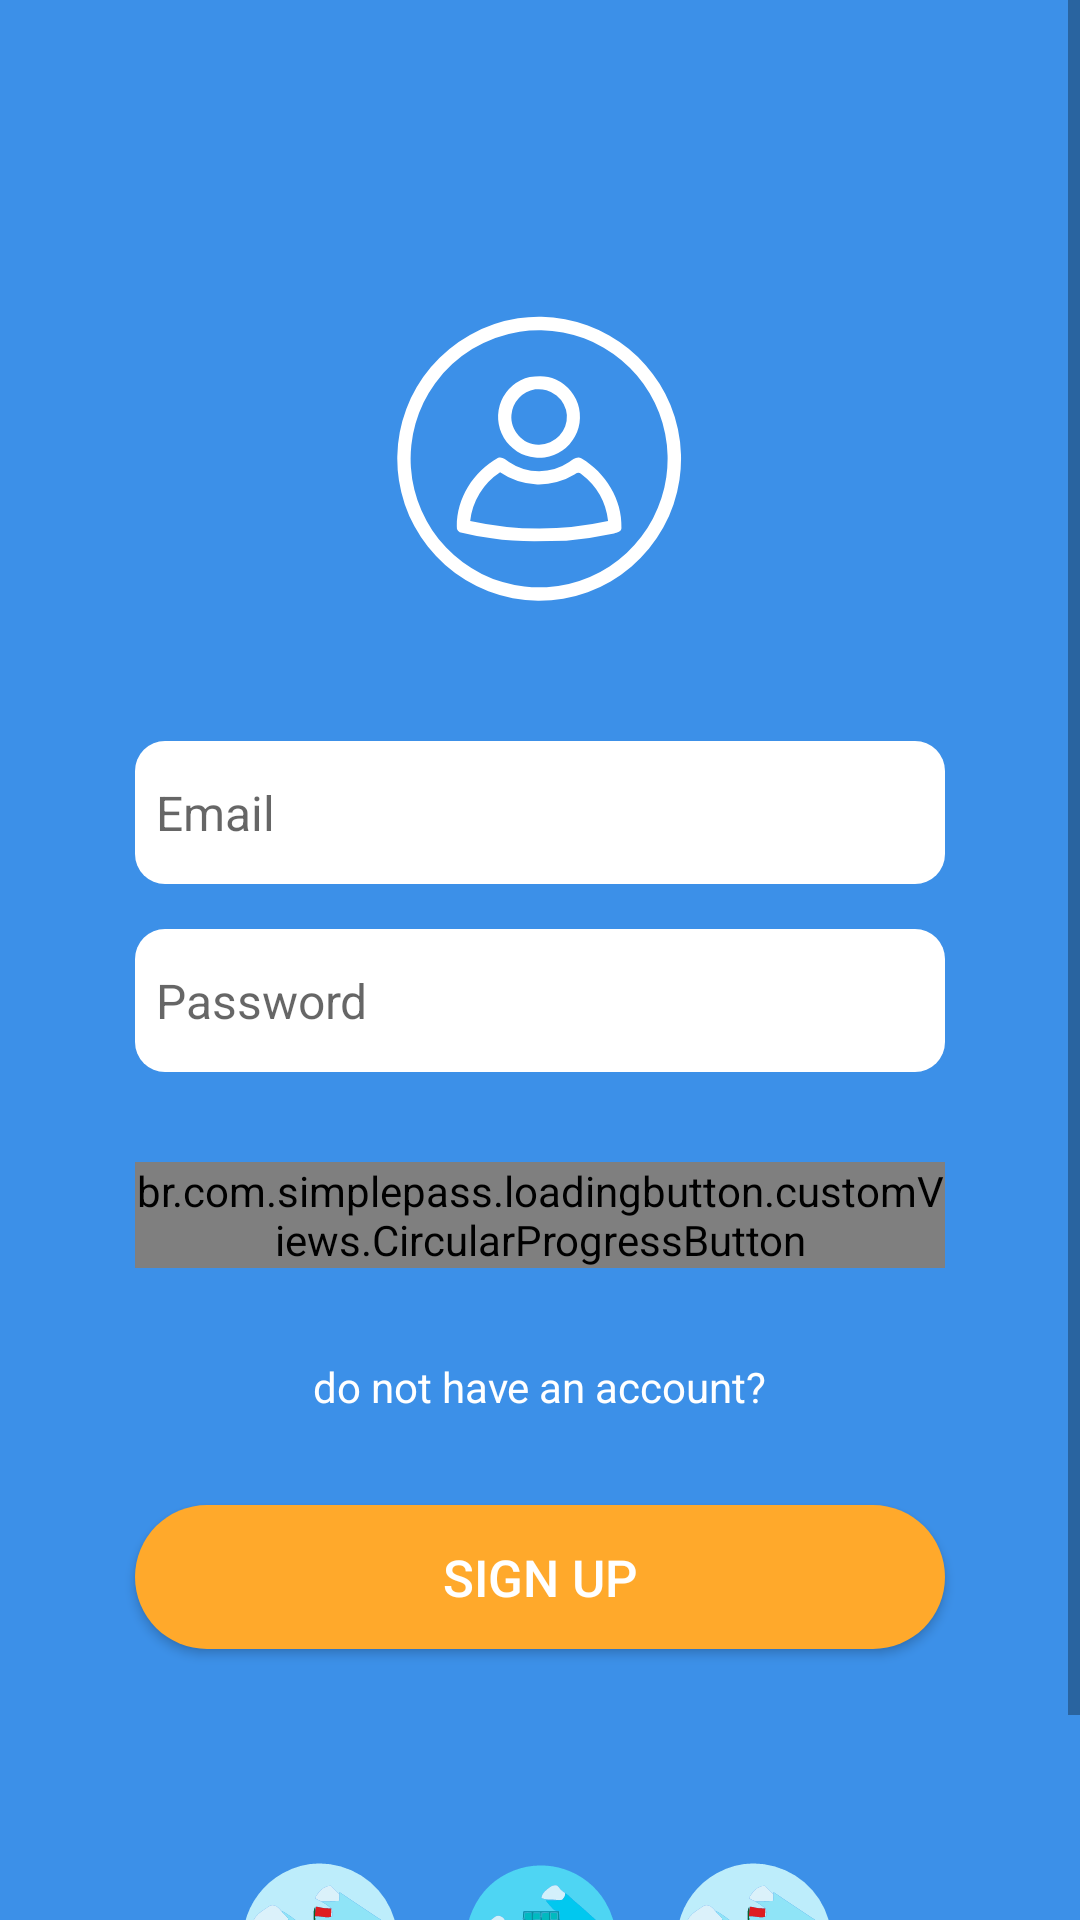

Screen size 1080px x 1920px. Icon name, then its box in pixels as (x1, y1, x2, y2):
login: (397, 316, 681, 601)
